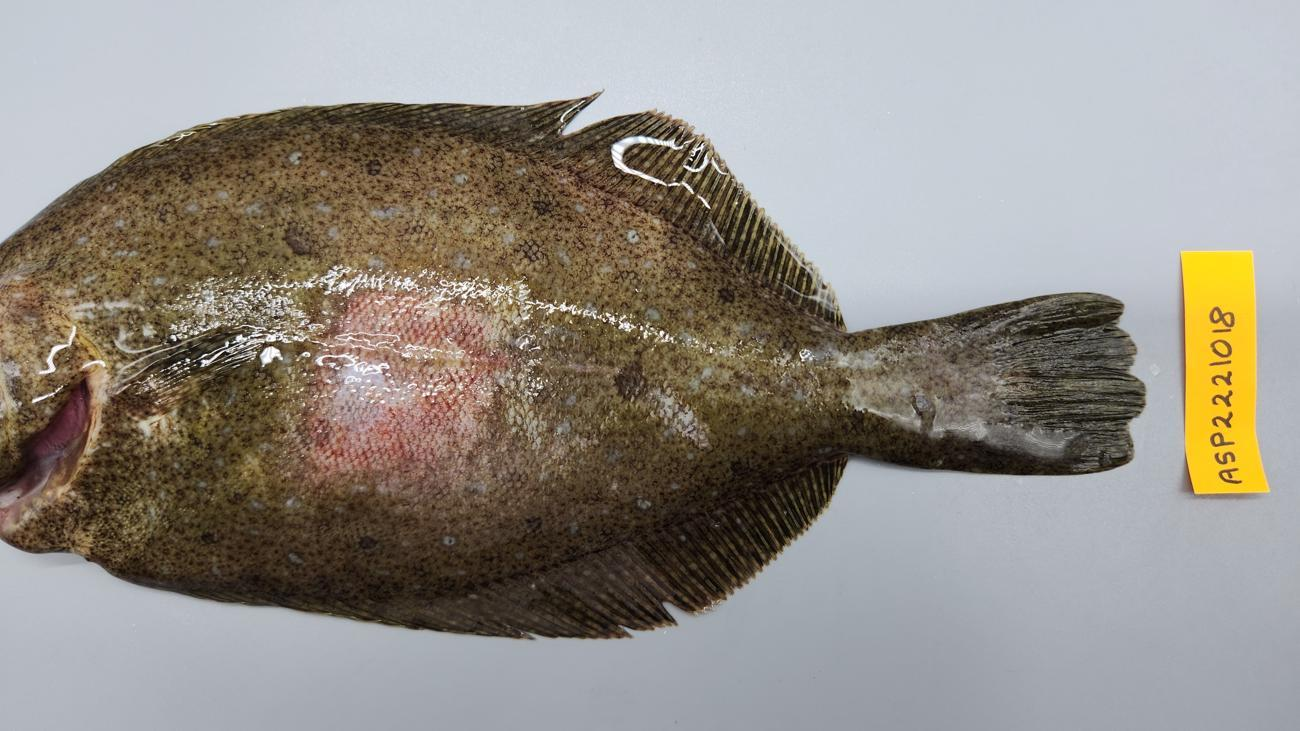SPDYH: (69, 133, 731, 271), (255, 276, 600, 536)
